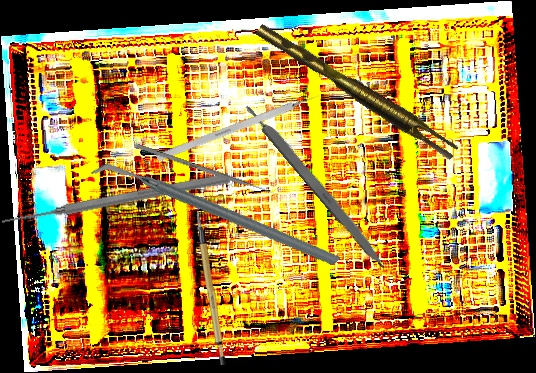Chopper: (90, 88, 341, 343)
Hook Surgical: (155, 90, 325, 162)
Pusher: (0, 170, 231, 229), (136, 143, 280, 198)
Scalpel Handle: (242, 98, 391, 272), (196, 209, 228, 366)
Tissue Forceps: (255, 13, 460, 167)
